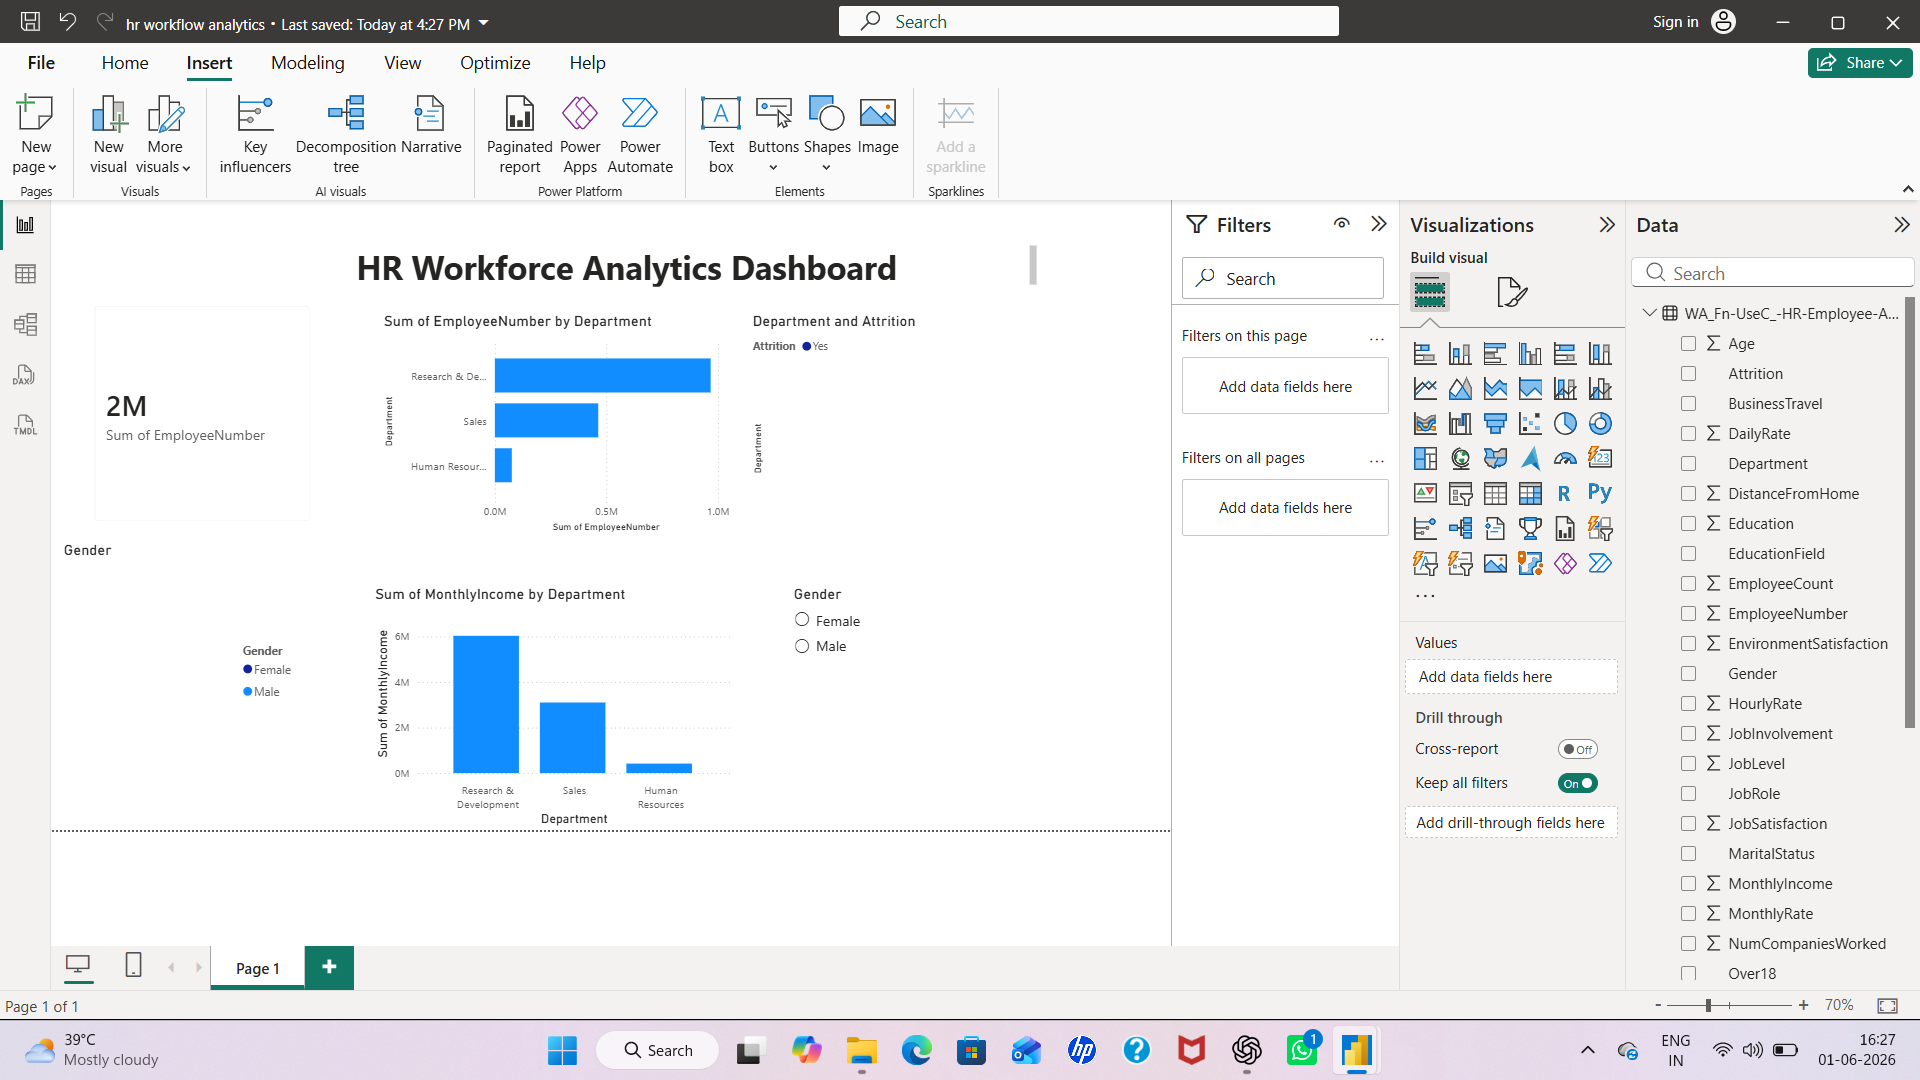

This screenshot's page, from the dashboard's own definition file:
{"tool":"powerbi","page":{"name":"Page 1","canvas":[1280,720],"ordinal":0},"visuals":[{"type":"cardVisual","fields":{"Data":["Sum(WA_Fn-UseC_-HR-Employee-Attrition.EmployeeNumber)"]},"box":[32.9,104.3,280.1,280.1],"z":0},{"type":"pieChart","fields":{"Category":["WA_Fn-UseC_-HR-Employee-Attrition.Gender"]},"box":[10,390.1,280.1,280.1],"z":1000},{"type":"clusteredBarChart","fields":{"Category":["WA_Fn-UseC_-HR-Employee-Attrition.Department"],"Y":["Sum(WA_Fn-UseC_-HR-Employee-Attrition.EmployeeNumber)"]},"box":[375.8,128.6,405.8,255.8],"z":2000},{"type":"columnChart","fields":{"Category":["WA_Fn-UseC_-HR-Employee-Attrition.Department"],"Y":["Sum(WA_Fn-UseC_-HR-Employee-Attrition.MonthlyIncome)"]},"box":[365.8,440.1,415.8,280.1],"z":3000},{"type":"clusteredBarChart","fields":{"Category":["WA_Fn-UseC_-HR-Employee-Attrition.Department"],"Series":["WA_Fn-UseC_-HR-Employee-Attrition.Attrition"]},"box":[797.3,128.6,350.1,255.8],"z":4000},{"type":"listSlicer","fields":{"Values":["WA_Fn-UseC_-HR-Employee-Attrition.Gender"]},"box":[844.5,440.1,188.6,280.1],"z":4001},{"type":"textbox","box":[191.5,47.2,940.2,57.2],"z":4002}]}

Visuals, with their boxes on the page's 1280x720 design canvas (x1, y1, x2, y2). These are canvas units, not pixel positions in the 1920x1080 screenshot, which may show the page scaled, cropped or inside an application window:
cardVisual - Sum(WA_Fn-UseC_-HR-Employee-Attrition.EmployeeNumber): l=33, t=104, r=313, b=384
pieChart - WA_Fn-UseC_-HR-Employee-Attrition.Gender: l=10, t=390, r=290, b=670
clusteredBarChart - WA_Fn-UseC_-HR-Employee-Attrition.Department x Sum(WA_Fn-UseC_-HR-Employee-Attrition.EmployeeNumber): l=376, t=129, r=782, b=384
columnChart - WA_Fn-UseC_-HR-Employee-Attrition.Department x Sum(WA_Fn-UseC_-HR-Employee-Attrition.MonthlyIncome): l=366, t=440, r=782, b=720
clusteredBarChart - WA_Fn-UseC_-HR-Employee-Attrition.Department x WA_Fn-UseC_-HR-Employee-Attrition.Attrition: l=797, t=129, r=1147, b=384
listSlicer - WA_Fn-UseC_-HR-Employee-Attrition.Gender: l=844, t=440, r=1033, b=720
textbox: l=192, t=47, r=1132, b=104
